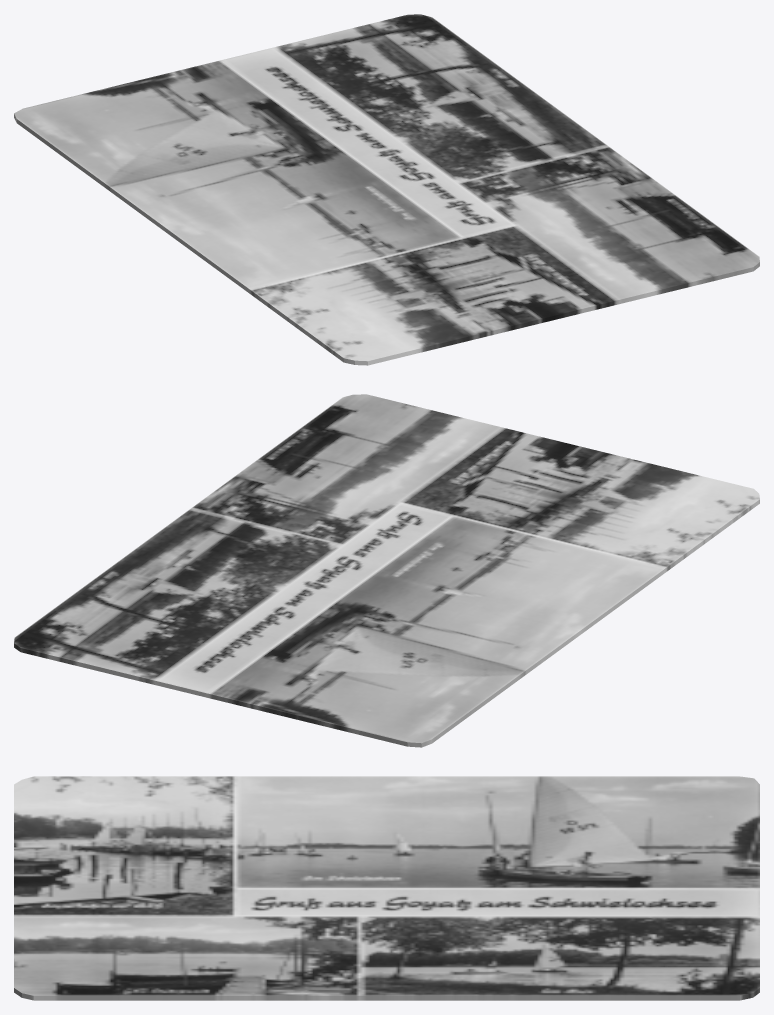
The model's file is obj_Postcard_005.obj.
3 renders of one model, top to bottom at view 1: azimuth 30°, elevation 25°; view 2: azimuth 150°, elevation 25°; view 3: azimuth 270°, elevation 25°, orthographic. The views are drawn at different scales.
Visible parts, largest first — view 1: obj_Postcard.005; view 2: obj_Postcard.005; view 3: obj_Postcard.005.
Part boxes in pixels (left/top/right/bottom): obj_Postcard.005: left=14, top=14, right=759, bottom=365; obj_Postcard.005: left=14, top=394, right=759, bottom=747; obj_Postcard.005: left=14, top=776, right=759, bottom=1000.
Size of the model in its own units: 0.1349 by 0.00135 by 0.194.
